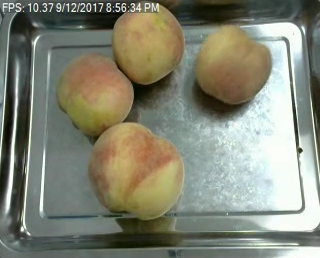Peach: (87, 122, 183, 219), (55, 50, 134, 135), (194, 22, 271, 104), (110, 2, 183, 85)
